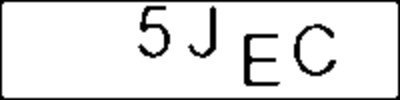5: (136, 3, 175, 61)
C: (291, 22, 345, 81)
E: (241, 29, 286, 90)
J: (184, 4, 223, 63)
